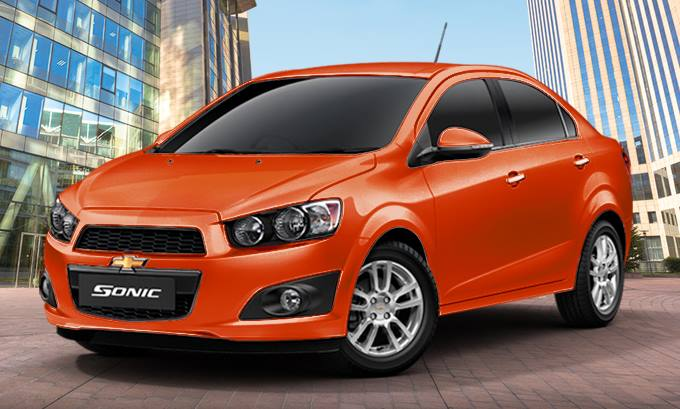sedan: (38, 60, 636, 374)
